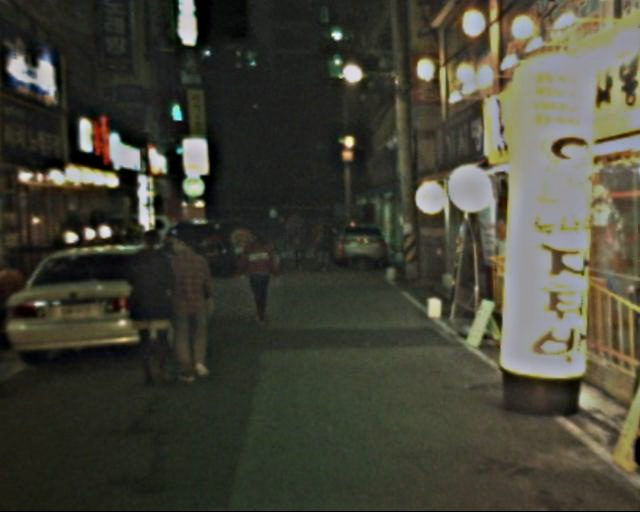person: (122, 223, 183, 392), (163, 222, 223, 389), (240, 223, 281, 325), (263, 200, 293, 280), (229, 216, 260, 285), (282, 213, 305, 277), (315, 216, 337, 275)
